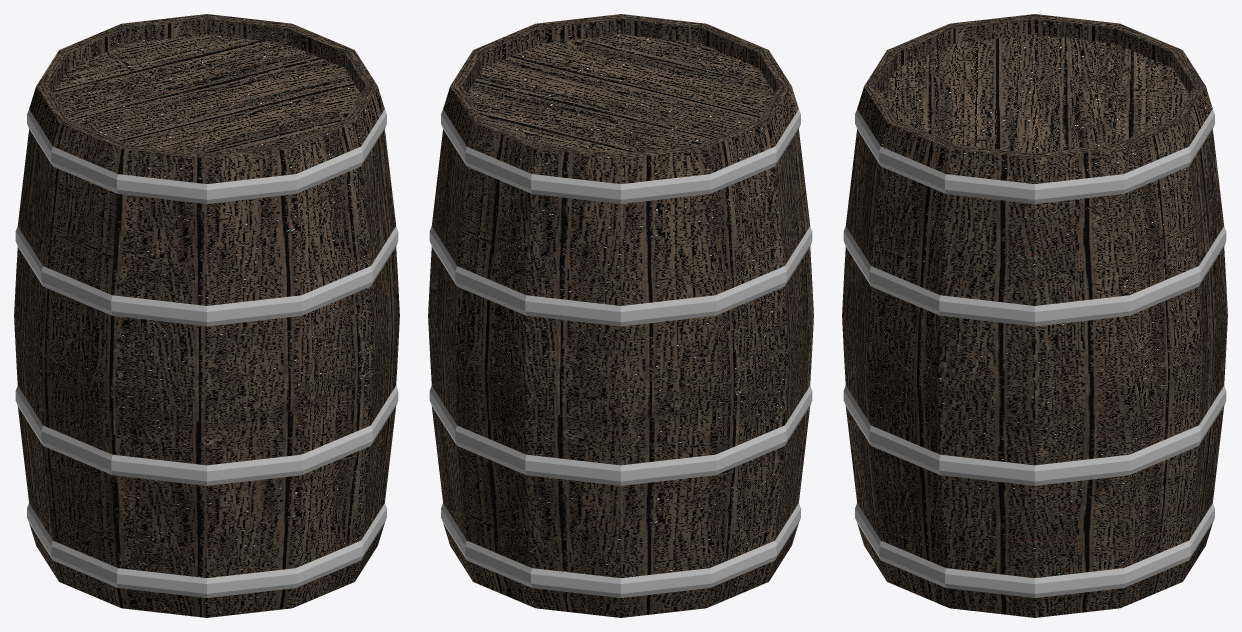
The model's file is barrel.dae.
3 renders of one model, left to right at view 1: azimuth 30°, elevation 25°; view 2: azimuth 150°, elevation 25°; view 3: azimuth 270°, elevation 25°, orthographic.
Visible parts, largest first — view 1: barrel_Layer1; view 2: barrel_Layer1; view 3: barrel_Layer1.
Boxes of the visible parts, x1=… form: barrel_Layer1: x1=14, y1=14, x2=399, y2=617; barrel_Layer1: x1=428, y1=14, x2=813, y2=617; barrel_Layer1: x1=842, y1=14, x2=1227, y2=617.
Size of the model in its own units: 0.8162 by 1.07 by 0.8162.
